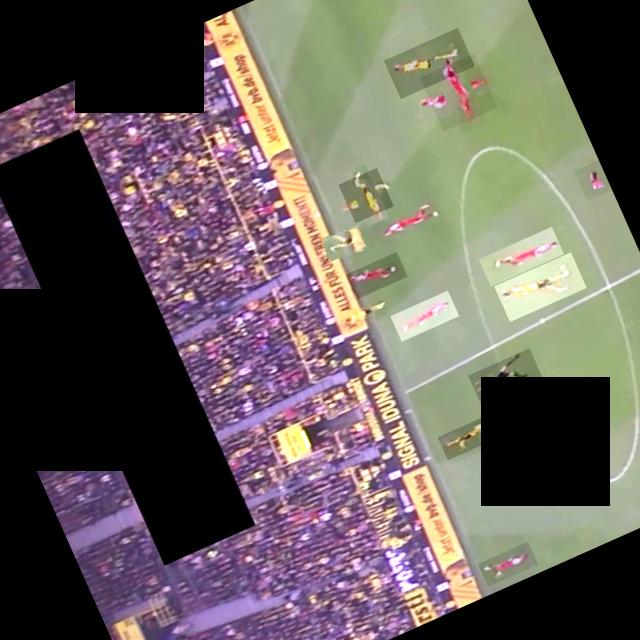referee: (468, 347, 545, 411)
soccer-player: (494, 251, 586, 321), (384, 27, 474, 98), (420, 52, 498, 130), (478, 226, 564, 286), (477, 408, 547, 462), (390, 290, 459, 340), (338, 167, 394, 222), (346, 251, 408, 298), (478, 540, 538, 586), (438, 414, 498, 459), (320, 224, 368, 262), (574, 159, 612, 200)
